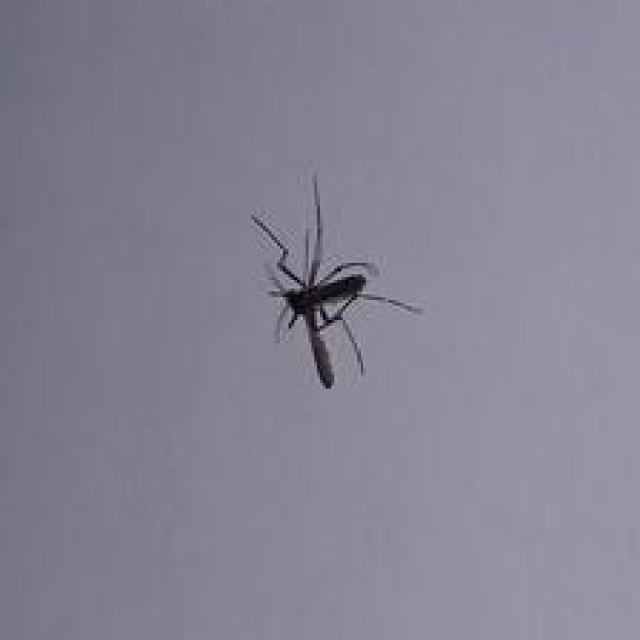Aedes albopictus: (248, 170, 423, 390)
